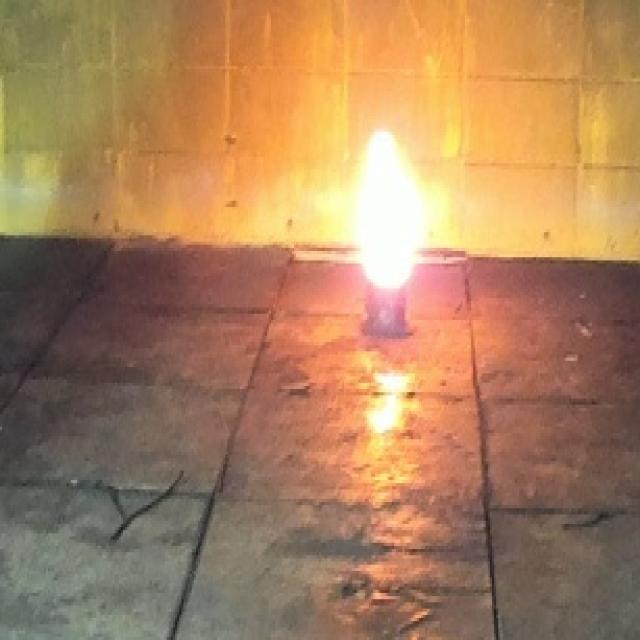Fire: (358, 129, 419, 289)
